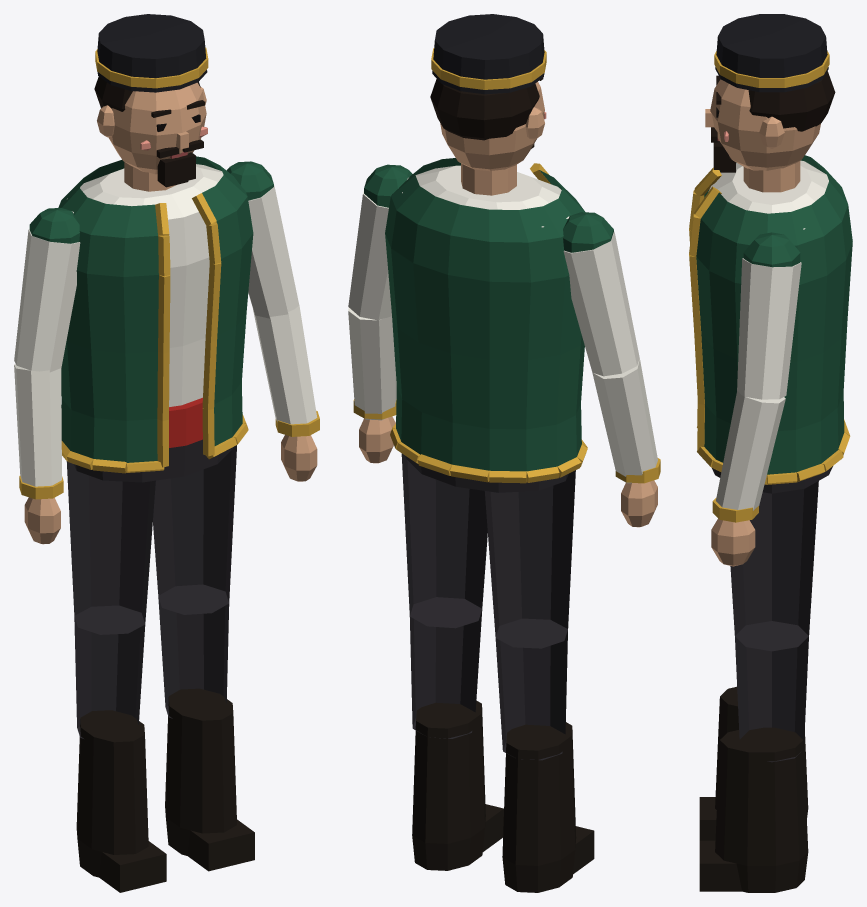
The model's file is Villager_Asan.obj.
The picture shows the model from 3 angles, left to right: view 1: azimuth 30°, elevation 25°; view 2: azimuth 150°, elevation 25°; view 3: azimuth 270°, elevation 25°; orthographic projection. The views are drawn at different scales.
Parts seen in each view (by area): view 1: Villager_Asan; view 2: Villager_Asan; view 3: Villager_Asan.
Boxes of the visible parts, x1,y1,x2,y2 form: Villager_Asan: (14,14,319,892); Villager_Asan: (348,14,660,892); Villager_Asan: (689,14,852,892).
Bounding box in the file's own units: 0.67 × 1.76 × 0.3176.
